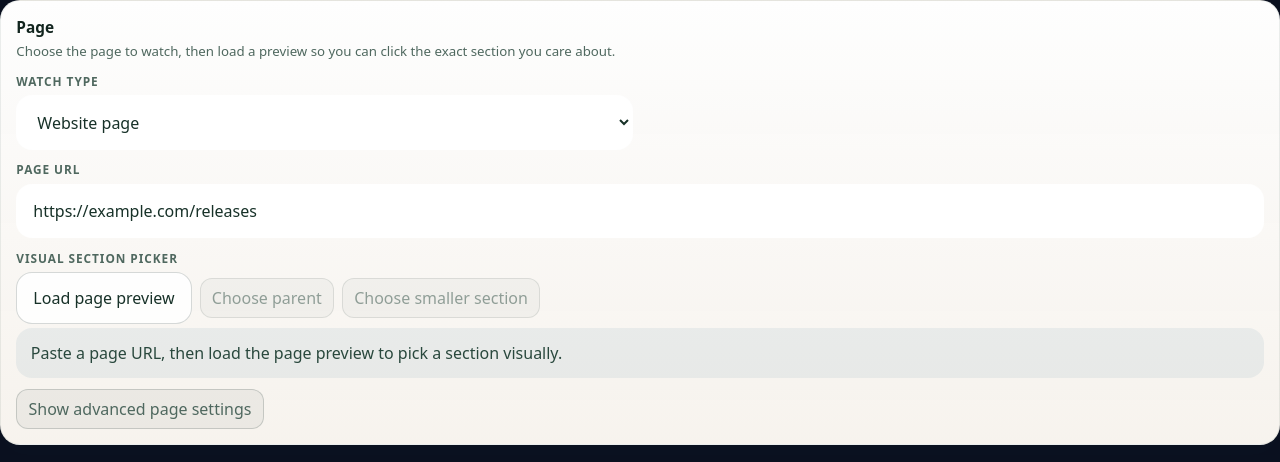
Test: SourceSection › surfaces structured Error objects from the preview bridge
The image size is (1280, 462).
Click the button "Load page preview": (104, 298) [16,272,192,324]
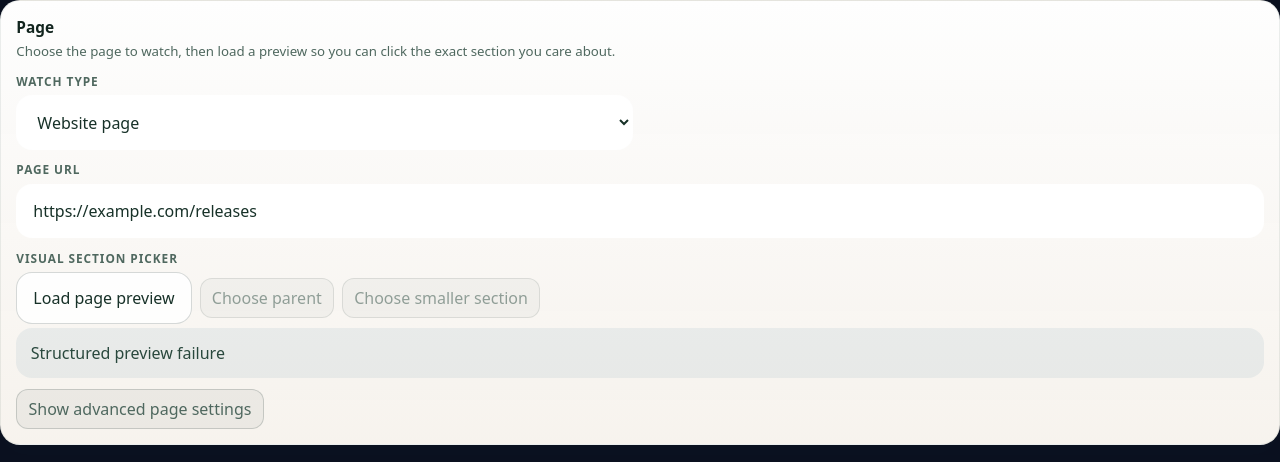
Expected: the text "Structured preview failure" is shown, [16,328,1264,378]
